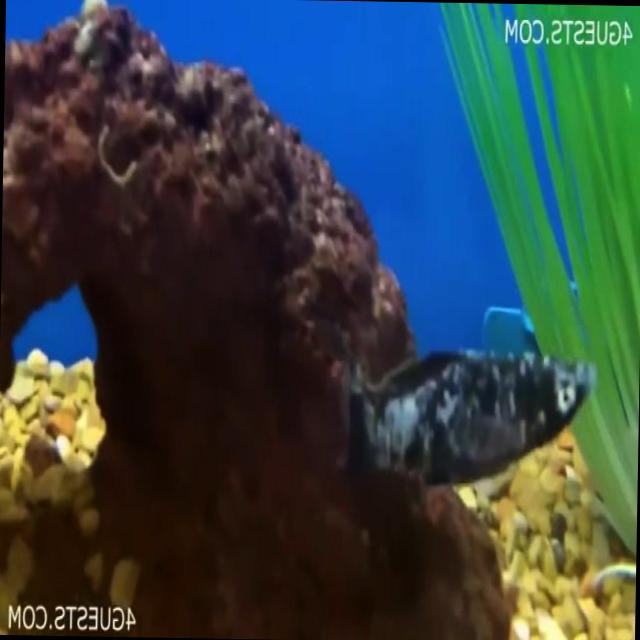PlatyFish: (316, 330, 608, 519)
